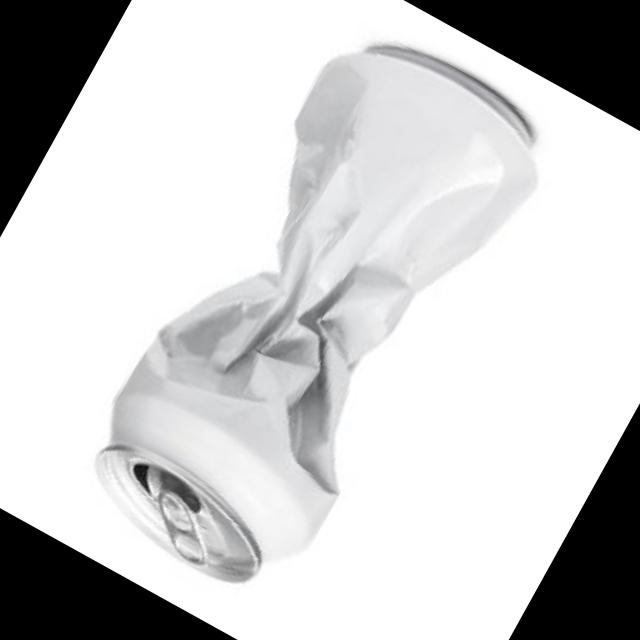Kaleng: (57, 0, 570, 629)
